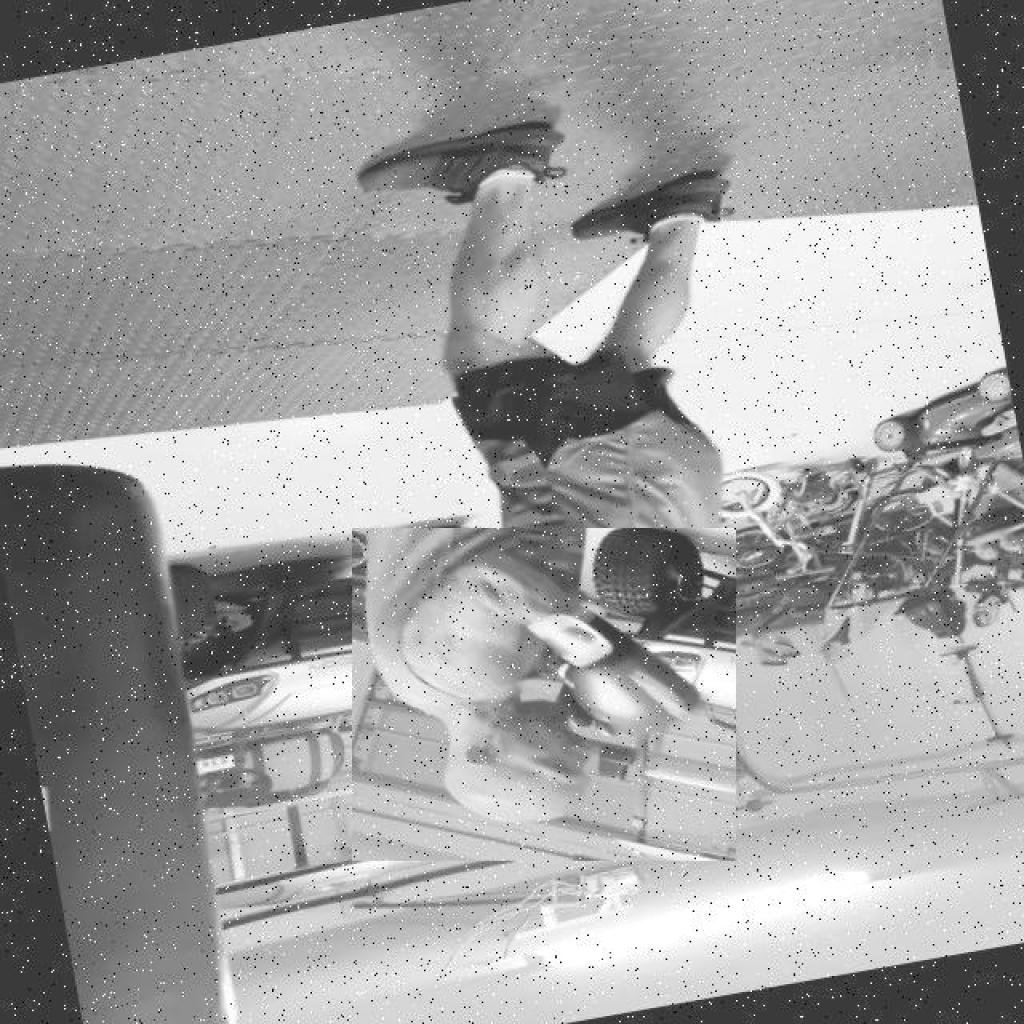bag: (0, 433, 249, 1024)
no punch: (352, 528, 737, 862)
